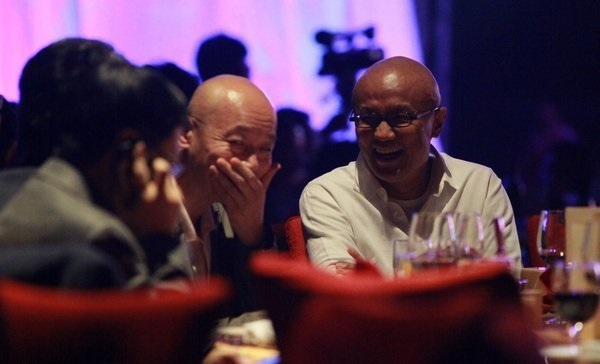face: (355, 79, 427, 175), (196, 115, 275, 197)
